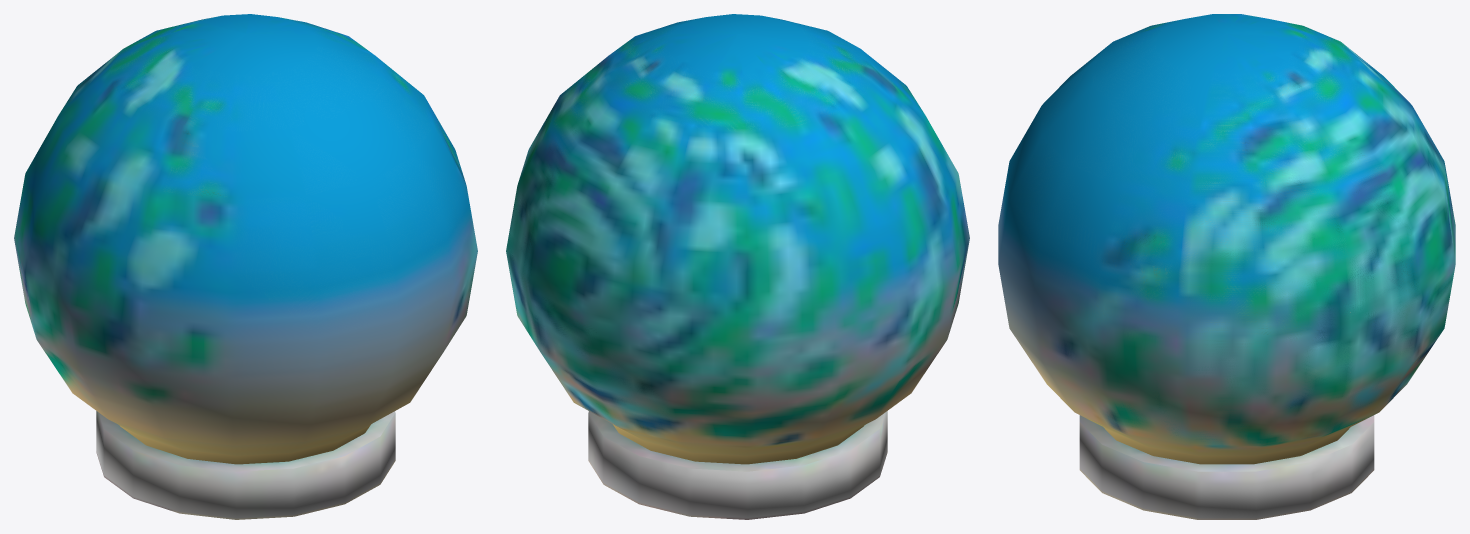
3 renders of one model, left to right at view 1: azimuth 30°, elevation 25°; view 2: azimuth 150°, elevation 25°; view 3: azimuth 270°, elevation 25°, orthographic.
Size of the model in its own units: 6.35 by 6.5 by 6.35.
Materials: 3 (3 with a texture image).
